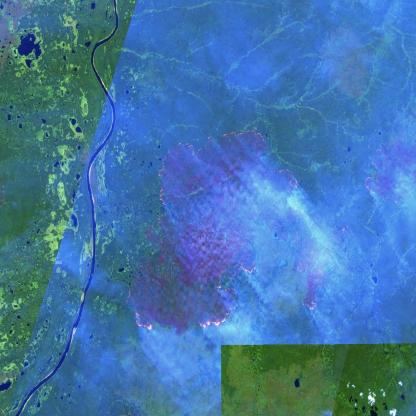fire: (120, 123, 297, 342)
